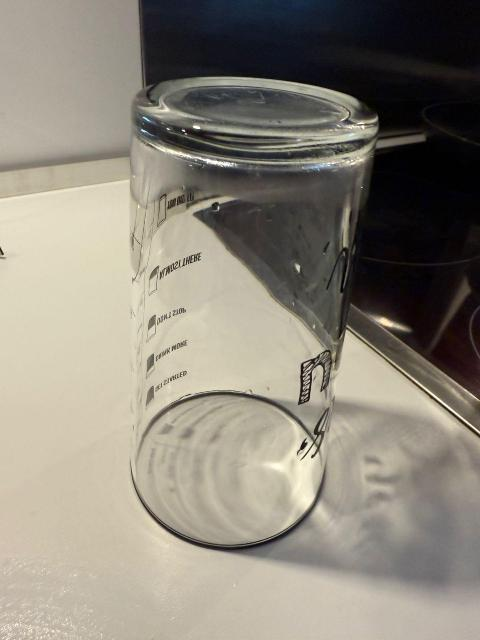Cam: (124, 84, 359, 547)
